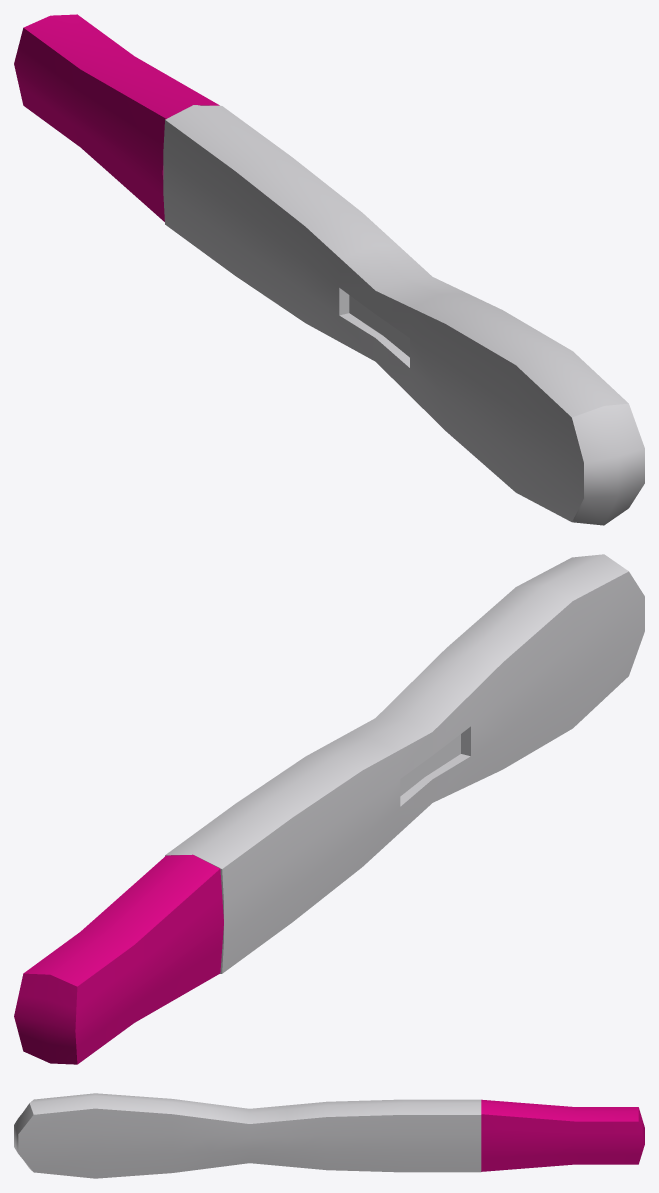
The picture shows the model from 3 angles, top to bottom: view 1: azimuth 30°, elevation 25°; view 2: azimuth 150°, elevation 25°; view 3: azimuth 270°, elevation 25°; orthographic projection. The views are drawn at different scales.
Visible parts, largest first — view 1: body, cap; view 2: body, cap; view 3: body, cap.
Boxes of the visible parts, x1=… form: body: x1=163, y1=105, x2=644, y2=525; cap: x1=14, y1=14, x2=219, y2=221; body: x1=165, y1=554, x2=644, y2=973; cap: x1=14, y1=854, x2=223, y2=1064; body: x1=14, y1=1093, x2=481, y2=1178; cap: x1=481, y1=1099, x2=644, y2=1171.
Size of the model in its own units: 0.00789 by 0.0179 by 0.1276.
